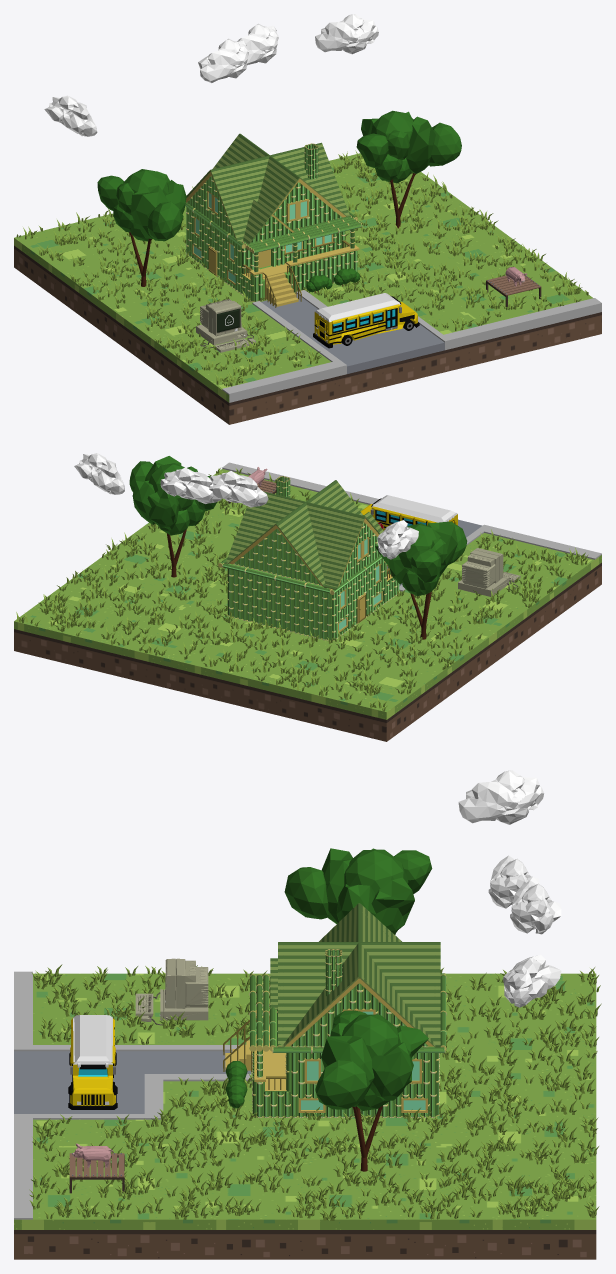
The picture shows the model from 3 angles, top to bottom: view 1: azimuth 30°, elevation 25°; view 2: azimuth 150°, elevation 25°; view 3: azimuth 270°, elevation 25°; orthographic projection. The views are drawn at different scales.
Parts seen in each view (by area): view 1: Cube.006, Cube.1327, Circle.012_Grass_0.192, Cube.007, tree, tree.001, VEHICLES_SCHOOL_BUS, OBJRANDOM_RETRO_PC, Cube.009; view 2: Cube.006, Cube.1327, Circle.012_Grass_0.192, Cube.007, tree.001, tree, OBJRANDOM_RETRO_PC, VEHICLES_SCHOOL_BUS; view 3: Cube.006, Circle.012_Grass_0.192, Cube.1327, tree, Cube.007, tree.001, VEHICLES_SCHOOL_BUS, OBJRANDOM_RETRO_PC, Cube.009.
Boxes of the visible parts, x1,y1,x2,y2 form: Cube.006: (14, 153, 601, 424); Cube.1327: (185, 133, 361, 307); Circle.012_Grass_0.192: (16, 150, 588, 386); Cube.007: (44, 14, 378, 136); tree: (356, 110, 461, 228); tree.001: (97, 169, 186, 286); VEHICLES_SCHOOL_BUS: (313, 293, 419, 348); OBJRANDOM_RETRO_PC: (196, 299, 255, 352); Cube.009: (486, 275, 541, 306); Cube.006: (14, 462, 601, 741); Cube.1327: (218, 476, 399, 641); Circle.012_Grass_0.192: (16, 468, 588, 711); Cube.007: (74, 453, 418, 559); tree.001: (375, 521, 467, 639); tree: (129, 456, 216, 577); OBJRANDOM_RETRO_PC: (458, 548, 520, 596); VEHICLES_SCHOOL_BUS: (360, 495, 457, 530); Cube.006: (14, 971, 596, 1259); Circle.012_Grass_0.192: (29, 964, 601, 1220); Cube.1327: (223, 903, 446, 1117); tree: (315, 1010, 428, 1171); Cube.007: (458, 770, 561, 1007); tree.001: (284, 848, 432, 934); VEHICLES_SCHOOL_BUS: (68, 1015, 117, 1109); OBJRANDOM_RETRO_PC: (135, 958, 208, 1025); Cube.009: (69, 1153, 124, 1193).
Size of the model in its own units: 4071 by 2126 by 4040.
35 materials, 5 textured.
